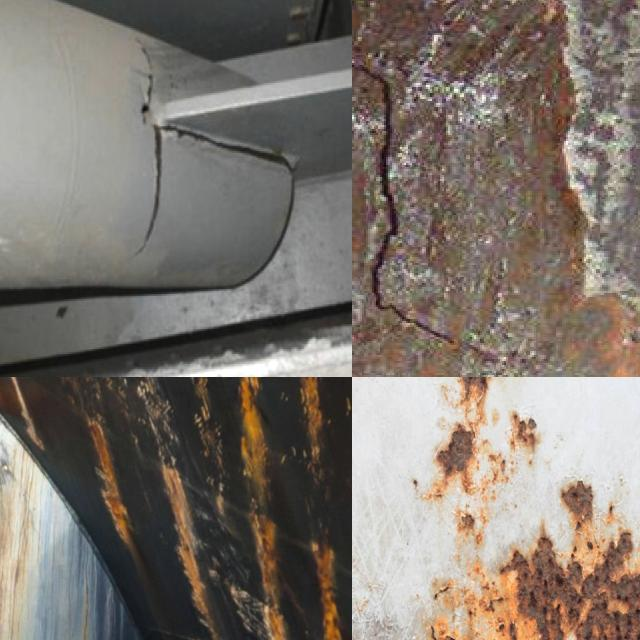Crack: (354, 63, 450, 341), (130, 36, 169, 278), (161, 123, 296, 173)
Pitting Corrosion: (429, 482, 640, 640), (424, 377, 513, 500), (510, 413, 537, 450)
Uniform Corrosion: (239, 377, 290, 640), (162, 464, 218, 639), (87, 414, 135, 555), (300, 377, 330, 483), (311, 541, 342, 640)
